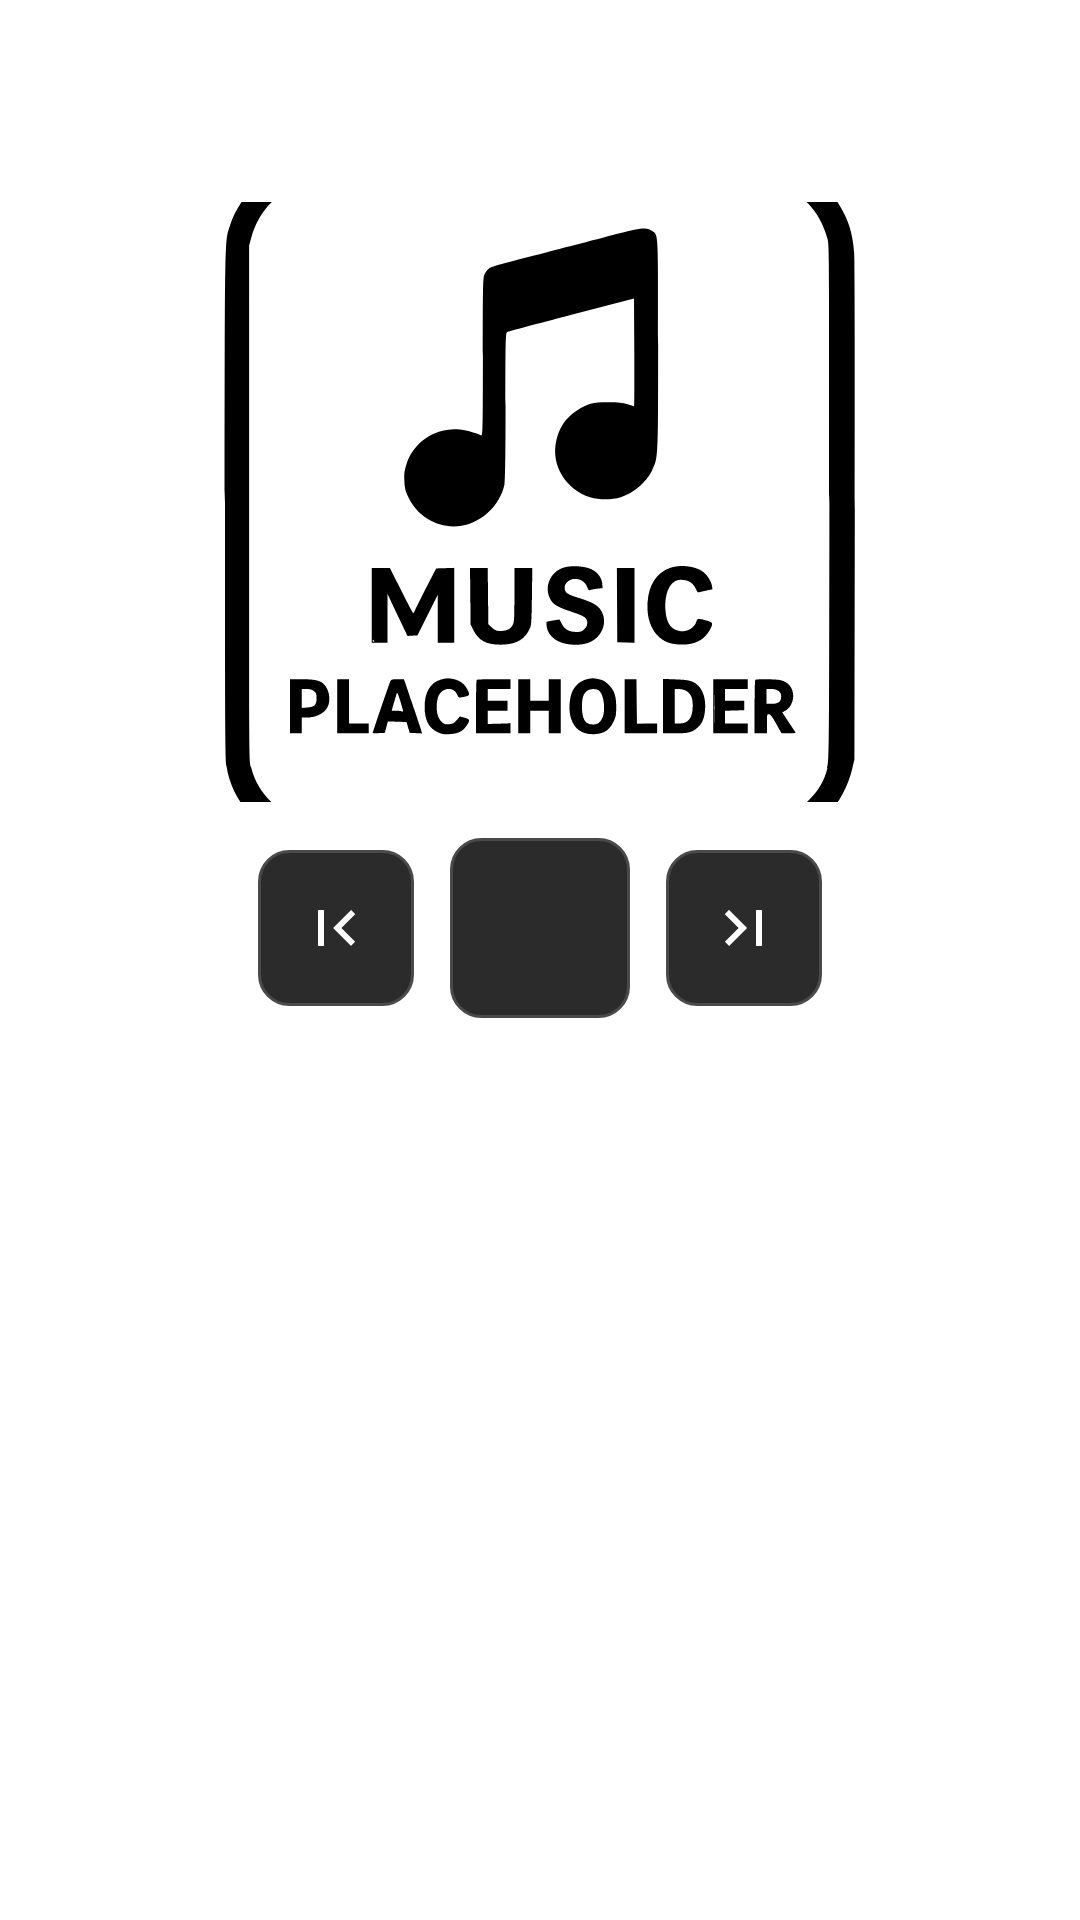

Icon click points for this 1080 x 1920 phone screenshot, format (x,y):
Next: (744,928)
Previous: (336,928)
